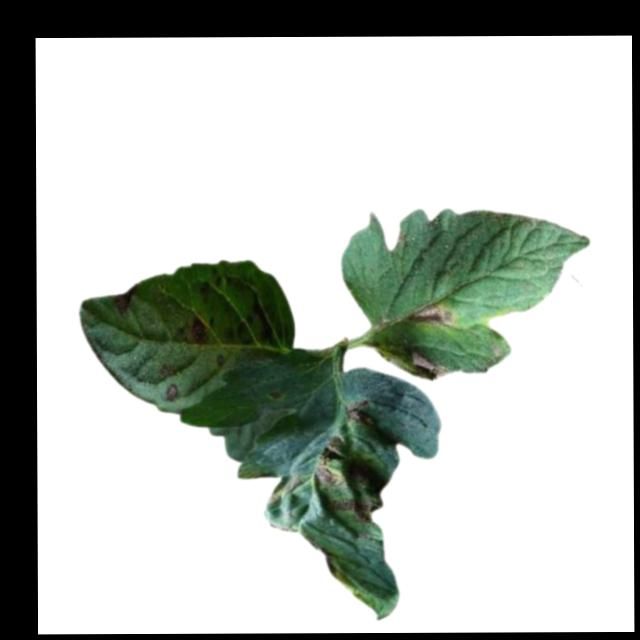Early_blight: (314, 435, 345, 486), (334, 496, 382, 525), (411, 302, 454, 330), (407, 351, 447, 381), (340, 400, 374, 422), (187, 315, 208, 347), (114, 287, 135, 318), (163, 382, 181, 400)
